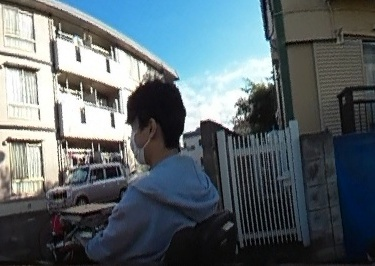person: (102, 79, 225, 265)
